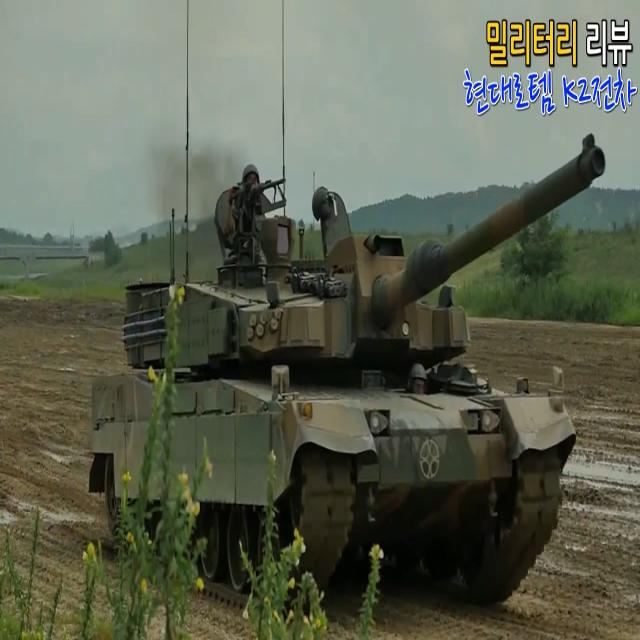korea tank: (86, 126, 608, 612)
